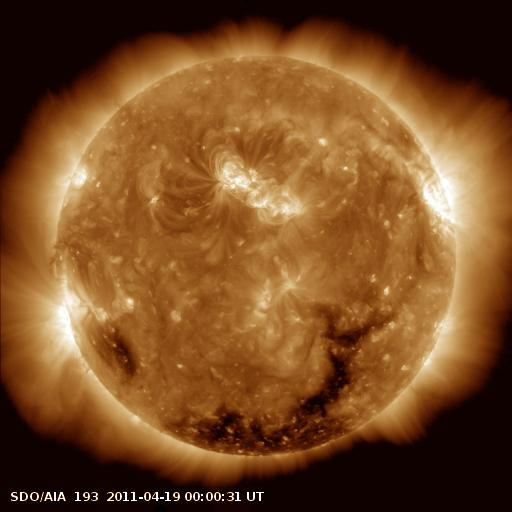coronal_hole: (168, 305, 393, 459), (95, 324, 148, 382)
